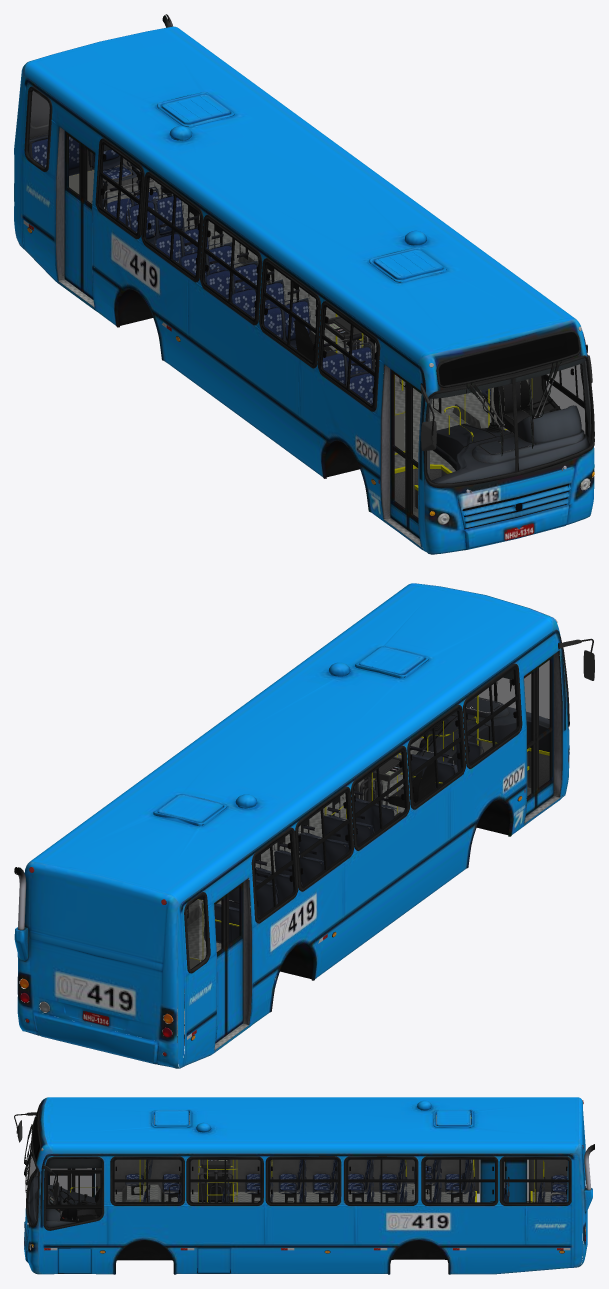
Rendered from onibus_busscar.glb.
3 views of the same model, one above another, from view 1: azimuth 30°, elevation 25°; view 2: azimuth 150°, elevation 25°; view 3: azimuth 270°, elevation 25° (orthographic). The views are drawn at different scales.
Visible parts, largest first — view 1: veiculo; view 2: veiculo; view 3: veiculo.
Boxes of the visible parts, left/top/right/bottom form: veiculo: left=14, top=14, right=594, bottom=554; veiculo: left=14, top=583, right=594, bottom=1068; veiculo: left=14, top=1097, right=594, bottom=1274.
Bounding box in the file's own units: 3 × 2.95 × 11.5.
Materials: 139 (126 with a texture image).
